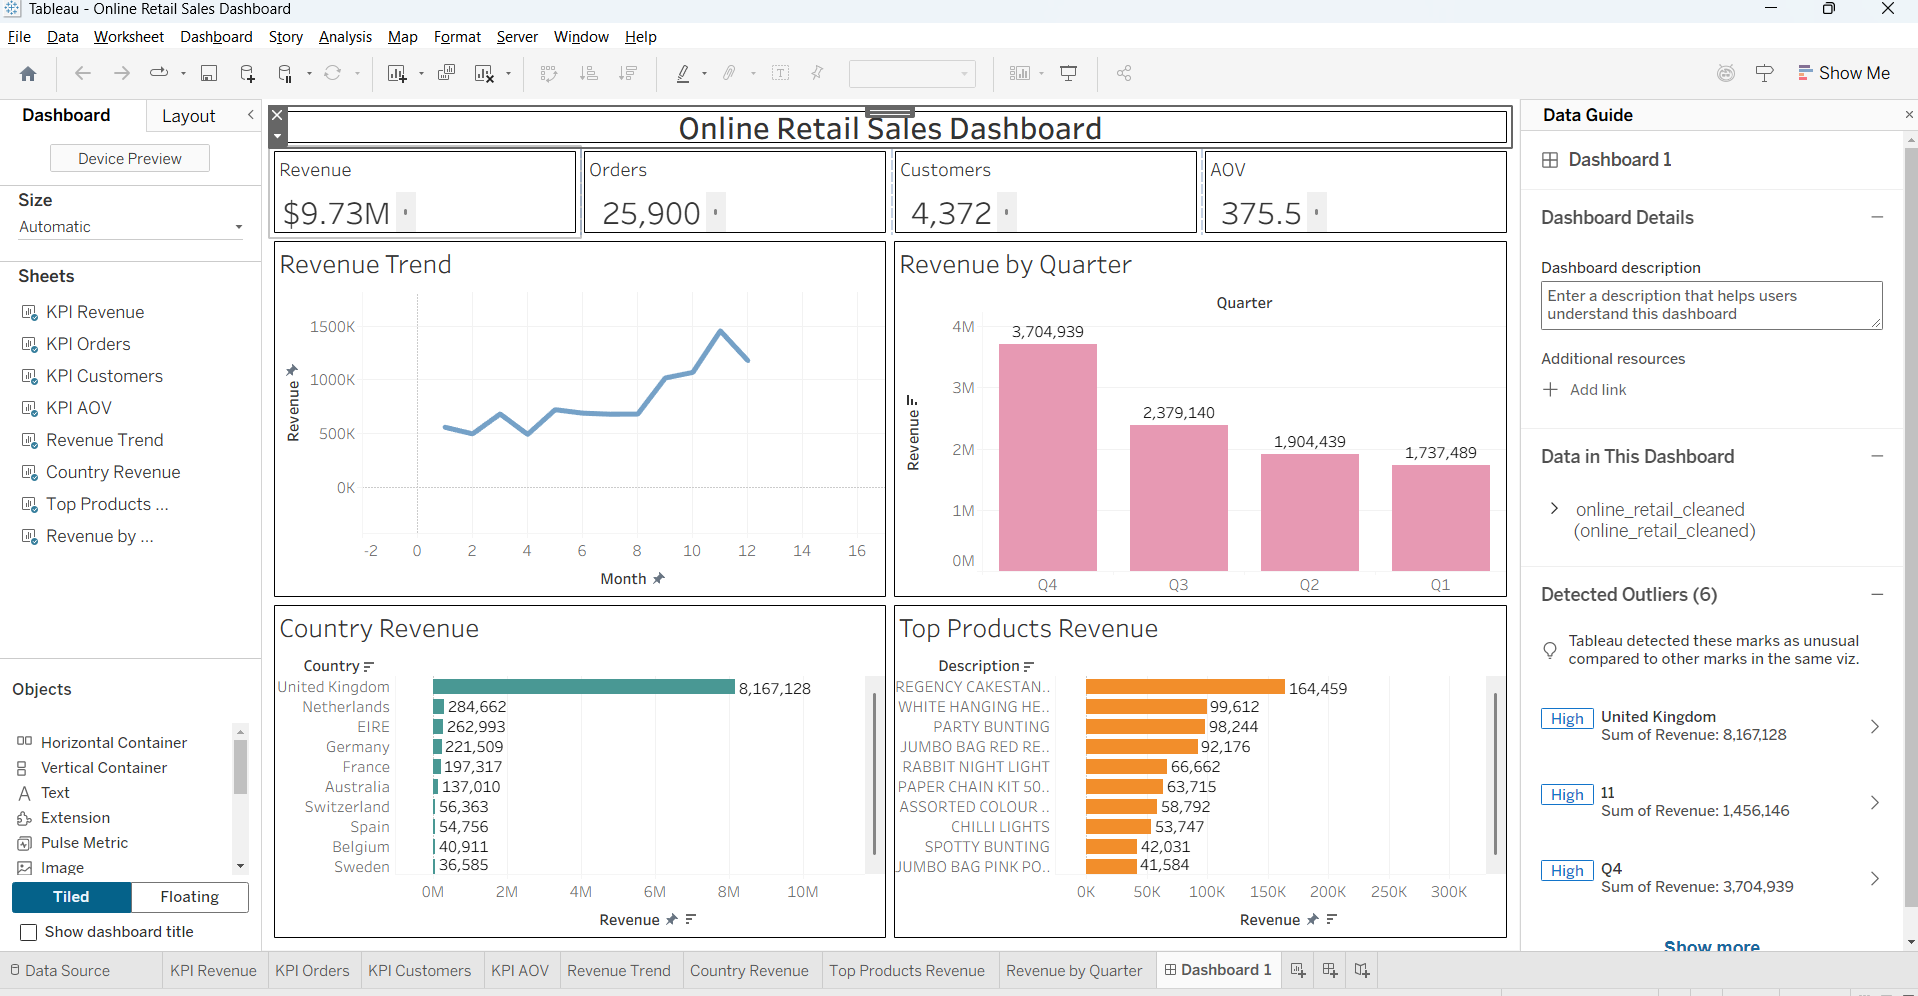

The page's visual inventory and layout, read from the dashboard file:
{"tool":"tableau","page":{"name":"Dashboard 1","canvas":[1000,1000],"units":"permille","ordinal":0},"visuals":[{"type":"title","box":[4.8,9.4,990.3,47]},{"type":"worksheet","title":"KPI Revenue","mark":"Automatic","box":[4.8,56.4,245,105.8]},{"type":"worksheet","title":"KPI Orders","mark":"Automatic","box":[249.8,56.4,249.8,105.8]},{"type":"worksheet","title":"KPI Customers","mark":"Automatic","box":[499.7,56.4,249.8,105.8]},{"type":"worksheet","title":"KPI AOV","mark":"Automatic","box":[749.6,56.4,226.3,105.8]},{"type":"worksheet","title":"Revenue Trend","mark":"Automatic","rows":["Revenue"],"cols":["Month"],"box":[4.8,162.2,494.9,427.7]},{"type":"worksheet","title":"Revenue by Quarter","mark":"Automatic","rows":["Revenue"],"cols":["Quarter"],"box":[499.7,162.2,495.5,427.7]},{"type":"worksheet","title":"Country Revenue","mark":"Automatic","rows":["Country"],"cols":["Revenue"],"box":[4.8,589.9,494.9,400.7]},{"type":"worksheet","title":"Top Products Revenue","mark":"Automatic","rows":["Description"],"cols":["Revenue"],"box":[499.7,589.9,495.5,400.7]}]}

Visuals, with their boxes on the dashboard's canvas, which has no fixed pixel size, in thousandths of its width and height (x1, y1, x2, y2). These are canvas units, not pixel positions in the 1918x996 screenshot, which may show the page scaled, cropped or inside an application window:
title: [x1=5, y1=9, x2=995, y2=56]
"KPI Revenue" worksheet: [x1=5, y1=56, x2=250, y2=162]
"KPI Orders" worksheet: [x1=250, y1=56, x2=500, y2=162]
"KPI Customers" worksheet: [x1=500, y1=56, x2=750, y2=162]
"KPI AOV" worksheet: [x1=750, y1=56, x2=976, y2=162]
"Revenue Trend" worksheet: [x1=5, y1=162, x2=500, y2=590]
"Revenue by Quarter" worksheet: [x1=500, y1=162, x2=995, y2=590]
"Country Revenue" worksheet: [x1=5, y1=590, x2=500, y2=991]
"Top Products Revenue" worksheet: [x1=500, y1=590, x2=995, y2=991]
